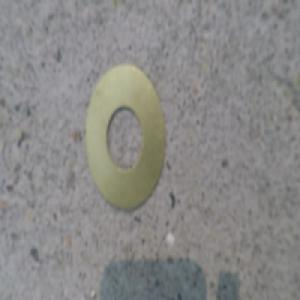Washer: (88, 64, 170, 206)
